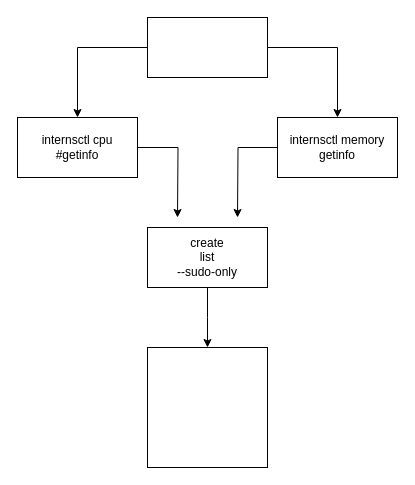
Image size: 415x485. Some labels were removed from this diagram. The centre of each missing label's shape, as x and y in pixels:
get info --size --permission --owner --last-modified: the point at 207,407
Internsctl script: the point at 207,47
